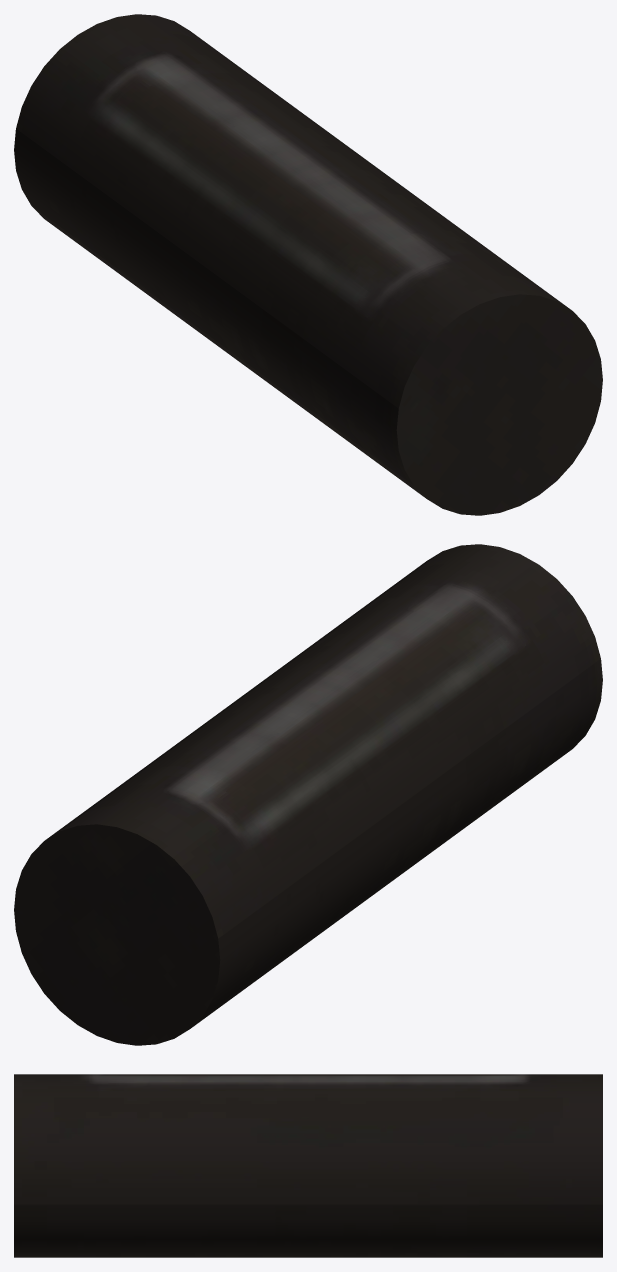
File: housing__frame_knuckle_0.glb
3 views of the same model, one above another, from view 1: azimuth 30°, elevation 25°; view 2: azimuth 150°, elevation 25°; view 3: azimuth 270°, elevation 25° (orthographic). The views are drawn at different scales.
Parts seen in each view (by area): view 1: geometry_0; view 2: geometry_0; view 3: geometry_0.
Boxes of the visible parts, x1,y1,x2,y2 form: geometry_0: (14, 14, 602, 515); geometry_0: (14, 544, 602, 1045); geometry_0: (14, 1074, 602, 1257).
Size of the model in its own units: 0.028 by 0.028 by 0.09.
1 material, 1 textured.
